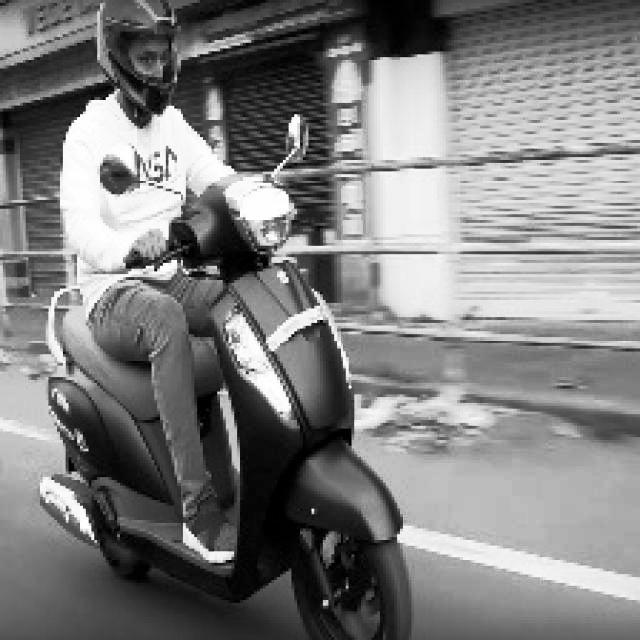Bike: (37, 213, 429, 640)
